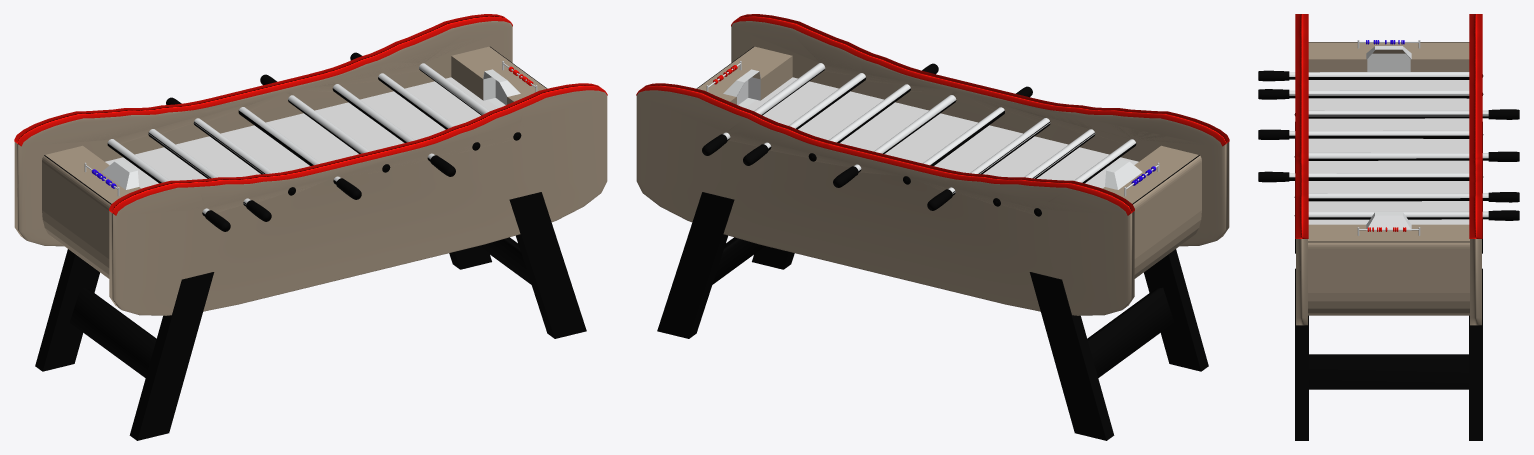
Rendered from babyfoot.fbx.
3 views of the same model, side by side, from view 1: azimuth 30°, elevation 25°; view 2: azimuth 150°, elevation 25°; view 3: azimuth 270°, elevation 25° (orthographic). The views are drawn at different scales.
Visible parts, largest first — view 1: Cube, Cube.004, Cube.001, Cube.002, Cube.007, Cube.005, Cylinder.006, Cylinder.007, Cylinder.005, Cylinder.001, Cylinder.004, Cylinder (+2 smaller); view 2: Cube, Cube.004, Cube.001, Cube.002, Cube.007, Cube.005, Cylinder.001, Cylinder, Cylinder.002, Cylinder.003, Cylinder.006, Cylinder.007 (+2 smaller); view 3: Cube.002, Cube.001, Cube.007, Cube.005, Cube.004, Cube, Cylinder, Cylinder.005, Cylinder.002, Cylinder.006, Cylinder.001, Cylinder.007 (+2 smaller).
Boxes of the visible parts, x1,y1,x2,y2 form: Cube: [14, 21, 607, 315]; Cube.004: [35, 192, 586, 440]; Cube.001: [105, 77, 498, 188]; Cube.002: [42, 46, 547, 278]; Cube.007: [14, 14, 607, 215]; Cube.005: [69, 237, 531, 377]; Cylinder.006: [238, 107, 361, 199]; Cylinder.007: [332, 84, 455, 176]; Cylinder.005: [148, 129, 271, 221]; Cylinder.001: [260, 74, 390, 172]; Cylinder.004: [107, 139, 230, 231]; Cylinder: [166, 97, 295, 195]; Cube: [636, 21, 1229, 315]; Cube.004: [657, 192, 1208, 440]; Cube.001: [745, 77, 1138, 188]; Cube.002: [696, 46, 1201, 278]; Cube.007: [636, 14, 1229, 215]; Cube.005: [712, 237, 1174, 377]; Cylinder.001: [833, 95, 956, 187]; Cylinder: [927, 118, 1050, 210]; Cylinder.002: [743, 73, 865, 165]; Cylinder.003: [702, 63, 825, 155]; Cylinder.006: [903, 86, 1032, 184]; Cylinder.007: [808, 63, 938, 161]; Cube.002: [1308, 42, 1469, 315]; Cube.001: [1308, 80, 1469, 224]; Cube.007: [1295, 14, 1482, 238]; Cube.005: [1309, 354, 1468, 389]; Cube.004: [1295, 122, 1482, 440]; Cube: [1296, 239, 1481, 325]; Cylinder: [1294, 109, 1519, 119]; Cylinder.005: [1258, 89, 1483, 99]; Cylinder.002: [1294, 192, 1519, 202]; Cylinder.006: [1258, 129, 1483, 139]; Cylinder.001: [1294, 151, 1519, 161]; Cylinder.007: [1258, 171, 1483, 182].
Bounding box in the file's own units: 96.85 × 46.13 × 48.56.
